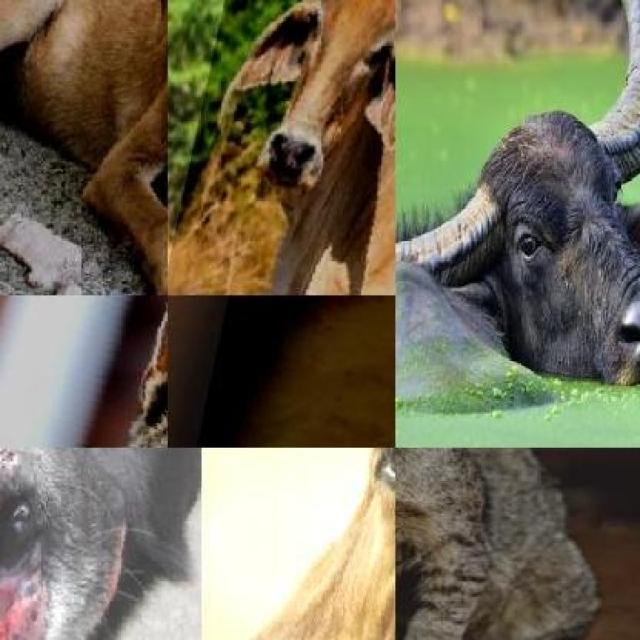buffalo: (395, 78, 640, 390)
cat: (395, 447, 593, 640), (168, 295, 395, 448), (0, 295, 168, 448)
cow: (167, 0, 395, 295), (201, 447, 395, 640)
dog: (0, 0, 167, 295), (0, 447, 201, 640)
injured: (0, 447, 95, 640)
